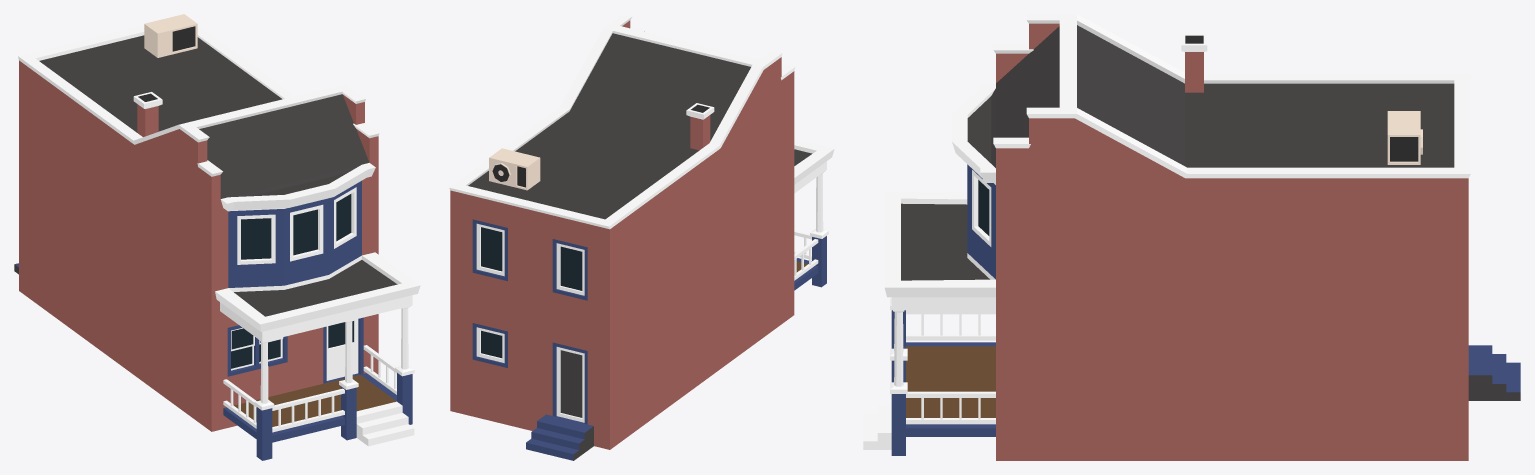
The model's file is building-house-block-old.glb.
The picture shows the model from 3 angles, left to right: view 1: azimuth 30°, elevation 25°; view 2: azimuth 150°, elevation 25°; view 3: azimuth 270°, elevation 25°; orthographic projection. The views are drawn at different scales.
Visible parts, largest first — view 1: building-house-block-old; view 2: building-house-block-old; view 3: building-house-block-old.
Boxes of the visible parts, x1=… form: building-house-block-old: x1=14, y1=14, x2=420, y2=460; building-house-block-old: x1=449, y1=14, x2=834, y2=460; building-house-block-old: x1=863, y1=14, x2=1520, y2=460.
Size of the model in its own units: 5 by 8.1 by 13.9.
Materials: 1 (1 with a texture image).
